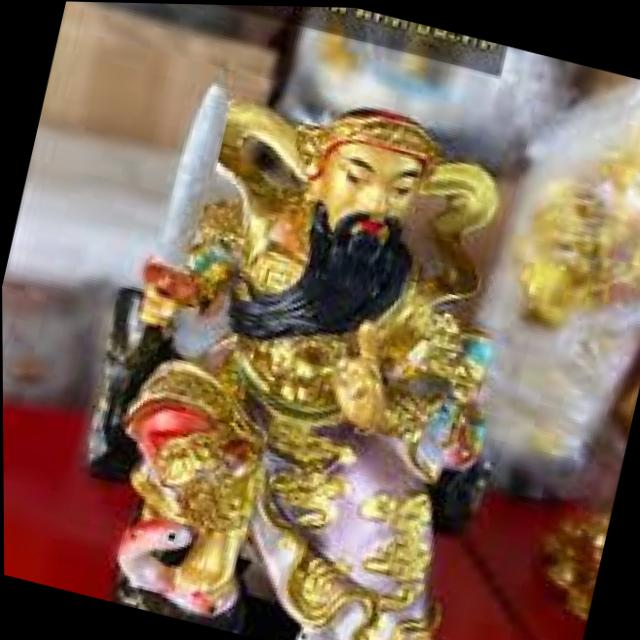Xuan wu: (95, 57, 513, 533)
